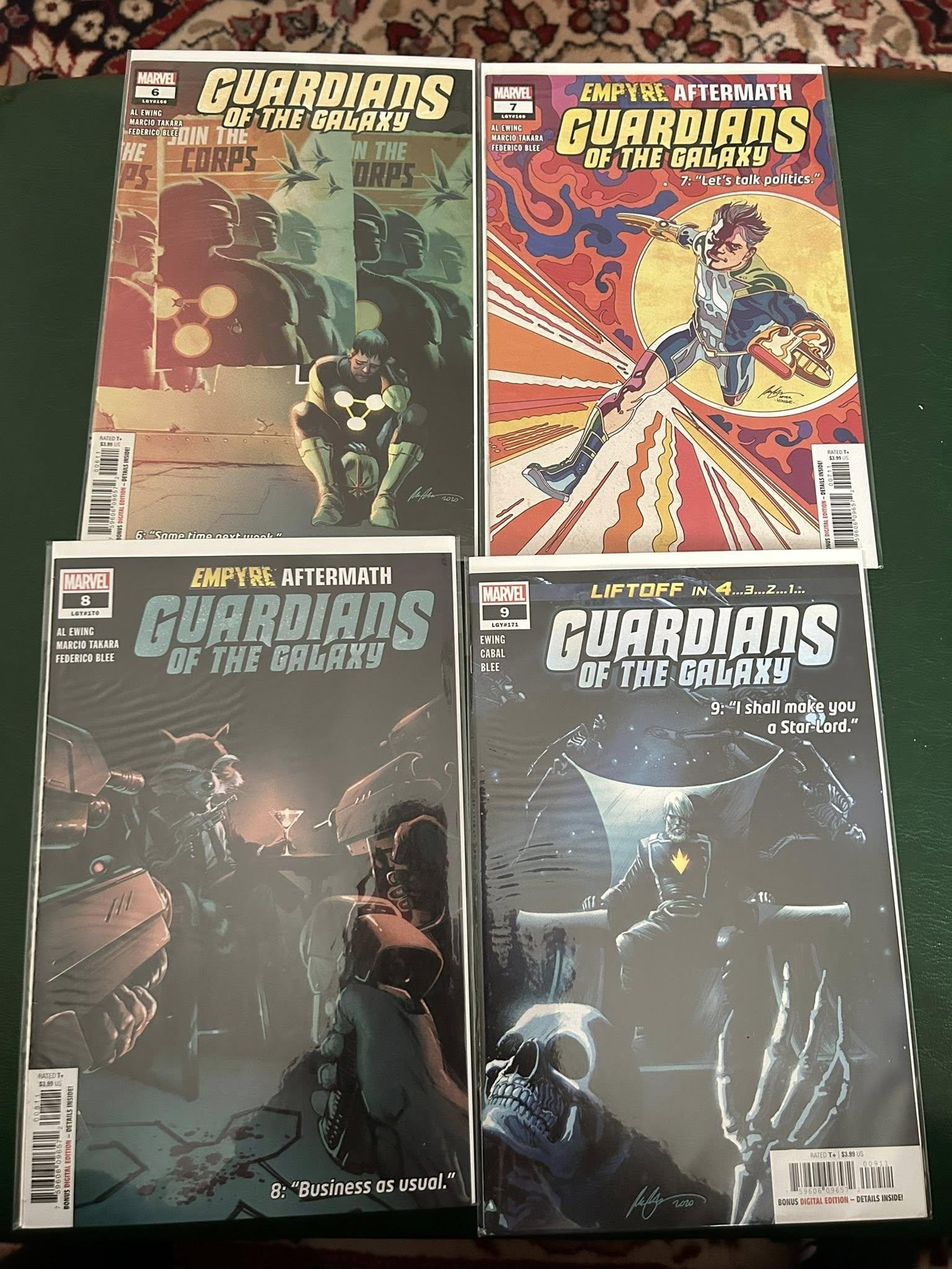comic: (462, 545, 927, 1239), (6, 537, 472, 1228), (79, 48, 487, 549), (483, 63, 876, 568)
